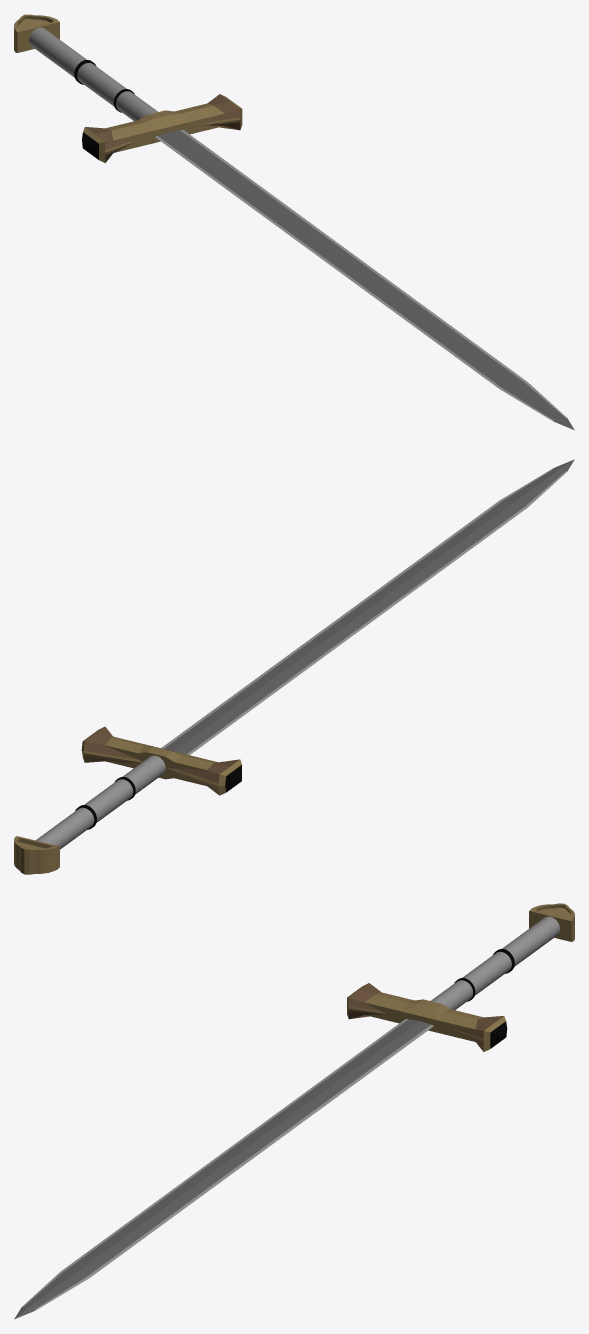
Rendered from sword.glb.
The picture shows the model from 3 angles, top to bottom: view 1: azimuth 30°, elevation 25°; view 2: azimuth 150°, elevation 25°; view 3: azimuth 330°, elevation 25°; orthographic projection.
Parts seen in each view (by area): view 1: Cylinder.007; view 2: Cylinder.007; view 3: Cylinder.007.
Part boxes in pixels (x1,y1,x2,y2): Cylinder.007: (14,14,574,429); Cylinder.007: (14,459,574,874); Cylinder.007: (14,903,574,1319).
Size of the model in its own units: 0.2042 by 0.0313 by 1.25.
